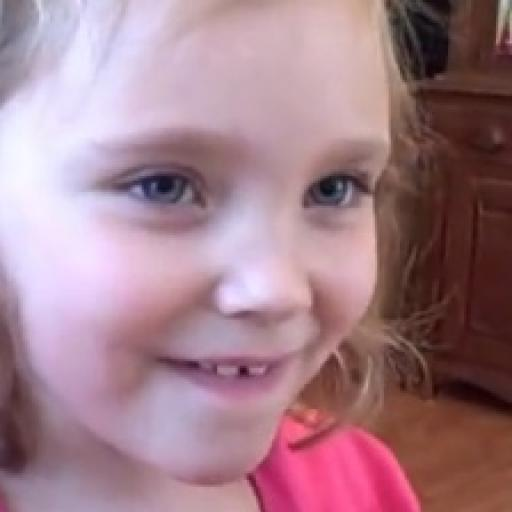Autism: (14, 15, 436, 481)
